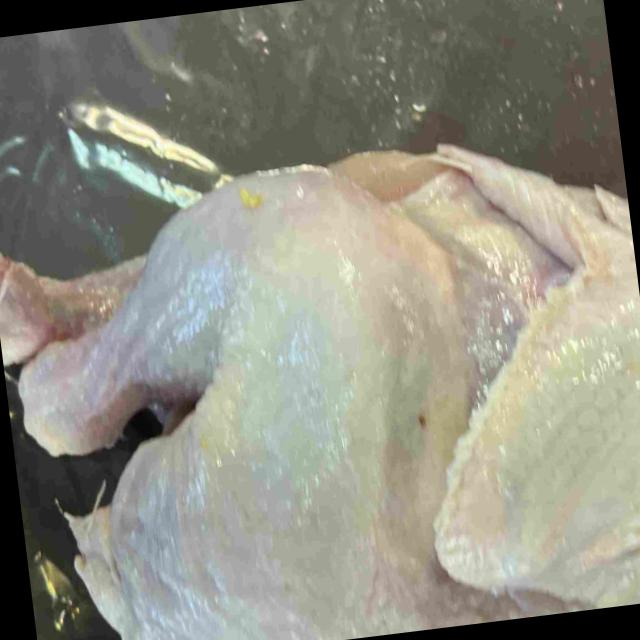back: (58, 504, 434, 640)
leg: (16, 175, 459, 535), (0, 257, 146, 369)
wing: (423, 139, 640, 605)
